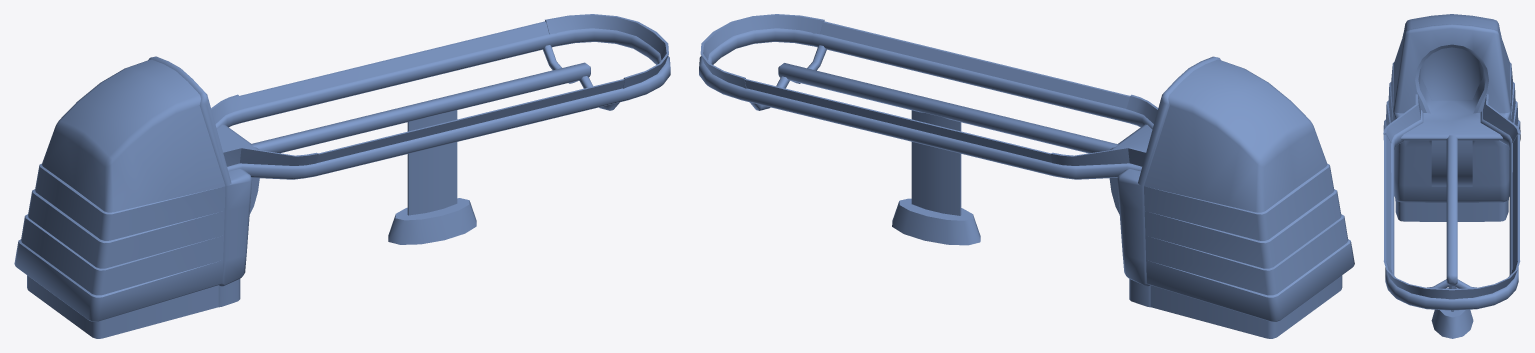
The model's file is boleraDani.fbx.
3 views of the same model, side by side, from view 1: azimuth 30°, elevation 25°; view 2: azimuth 150°, elevation 25°; view 3: azimuth 270°, elevation 25° (orthographic). The views are drawn at different scales.
Visible parts, largest first — view 1: static_prop_35|SM_Bowling_Return_Machine_11.smd|Dupli|; view 2: static_prop_35|SM_Bowling_Return_Machine_11.smd|Dupli|; view 3: static_prop_35|SM_Bowling_Return_Machine_11.smd|Dupli|.
Boxes of the visible parts, x1,y1,x2,y2 form: static_prop_35|SM_Bowling_Return_Machine_11.smd|Dupli|: (14,14,670,338); static_prop_35|SM_Bowling_Return_Machine_11.smd|Dupli|: (699,14,1354,338); static_prop_35|SM_Bowling_Return_Machine_11.smd|Dupli|: (1383,14,1520,338).
Bounding box in the file's own units: 605 × 215 × 140.
